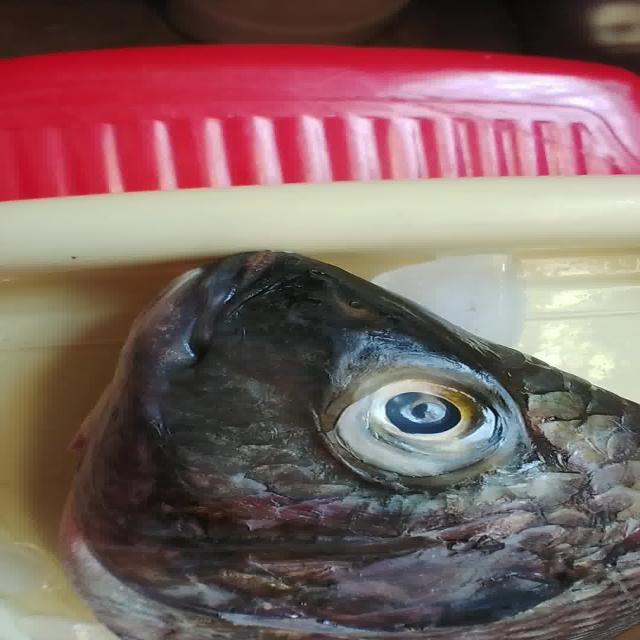Fresh: (302, 352, 546, 488)
